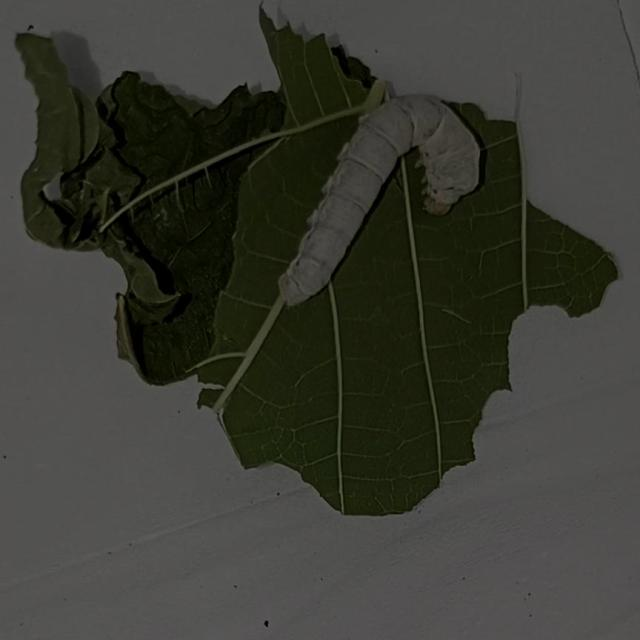Healthy: (272, 85, 484, 312)
